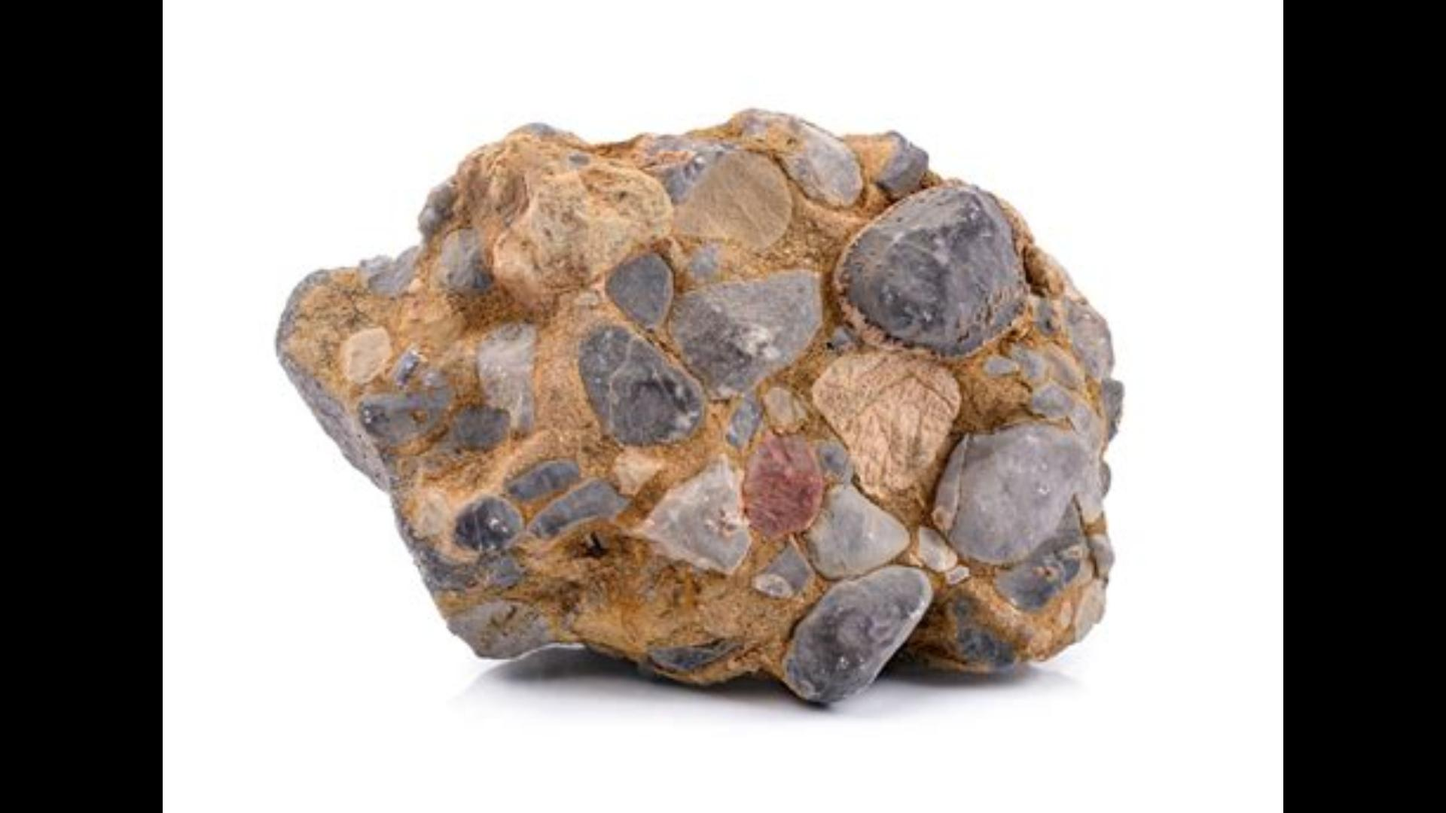rock: (286, 113, 1118, 697)
